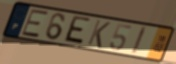5: (109, 23, 133, 52)
6: (44, 12, 67, 42)
E: (61, 15, 92, 47), (20, 9, 50, 39)
I: (129, 25, 148, 56)
K: (85, 19, 112, 49)
